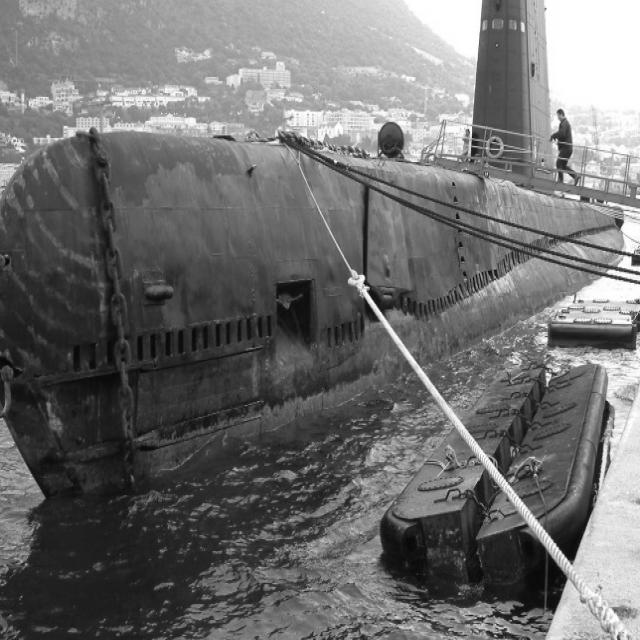submarine: (1, 1, 640, 532)
